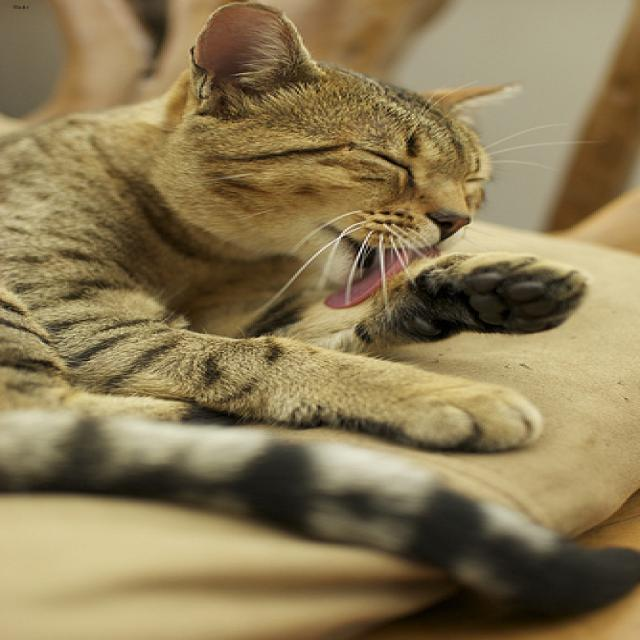Egyptian_Mau: (134, 3, 531, 319)
